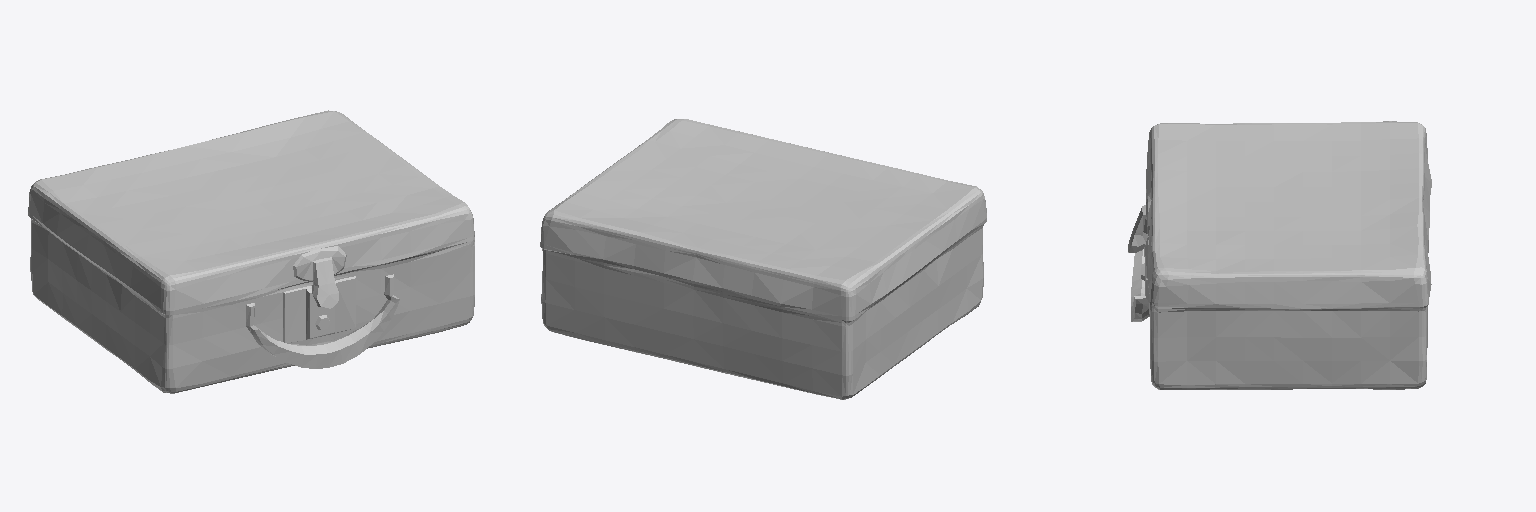
The model's file is Vintage_Suitcase_LP.obj.
3 renders of one model, left to right at view 1: azimuth 30°, elevation 25°; view 2: azimuth 150°, elevation 25°; view 3: azimuth 270°, elevation 25°, orthographic.
Size of the model in its own units: 1 by 0.3694 by 0.8286.